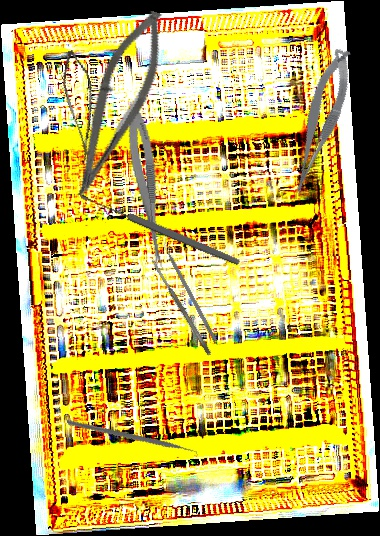Chopper: (66, 382, 201, 501), (159, 236, 223, 342)
Micro Scissor: (63, 2, 177, 207), (273, 44, 366, 199), (122, 102, 174, 273), (47, 47, 116, 162)
Spatula Surgical: (149, 257, 213, 357)
Surgical Spoon: (77, 190, 243, 268)
